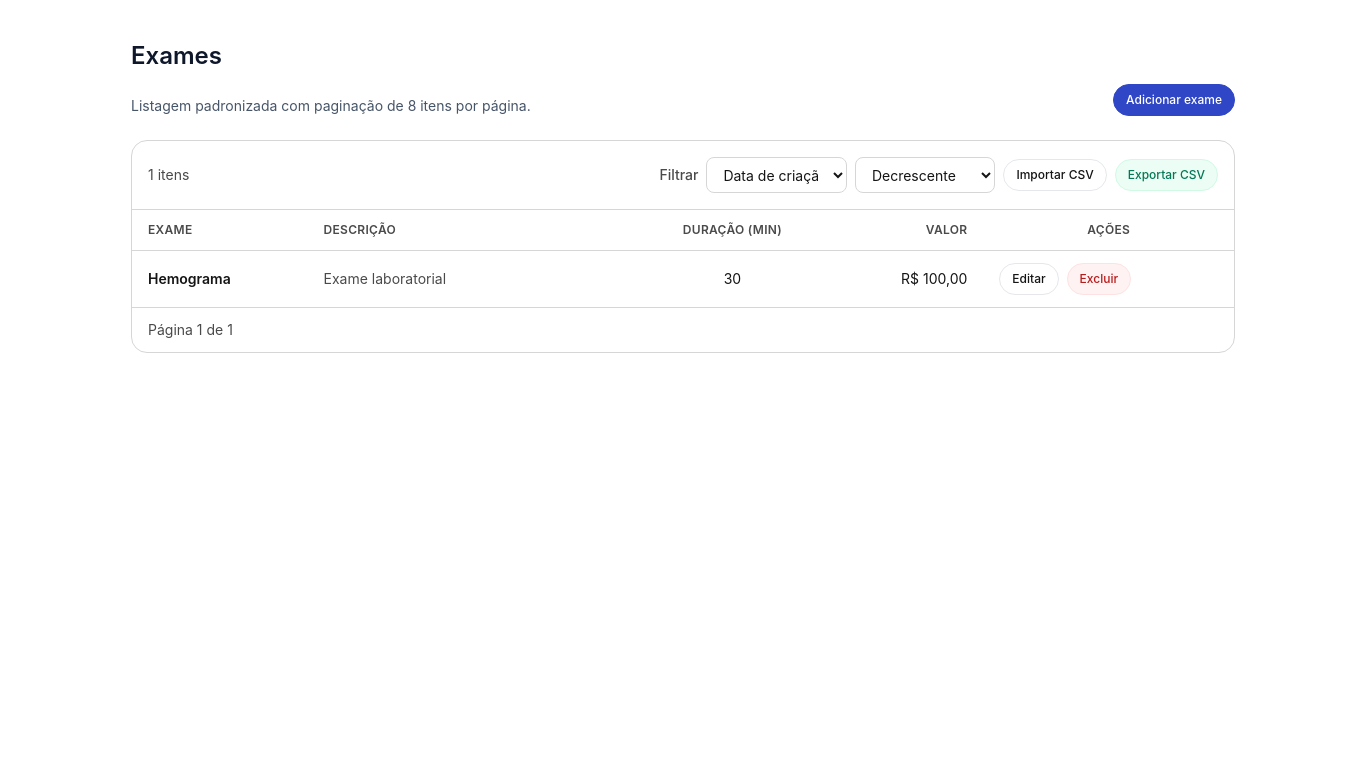
Test: ExamsListSection › should close confirmation dialog when cancel is clicked
Click the button "Excluir" at (1099, 279), box [1067,263,1131,295]
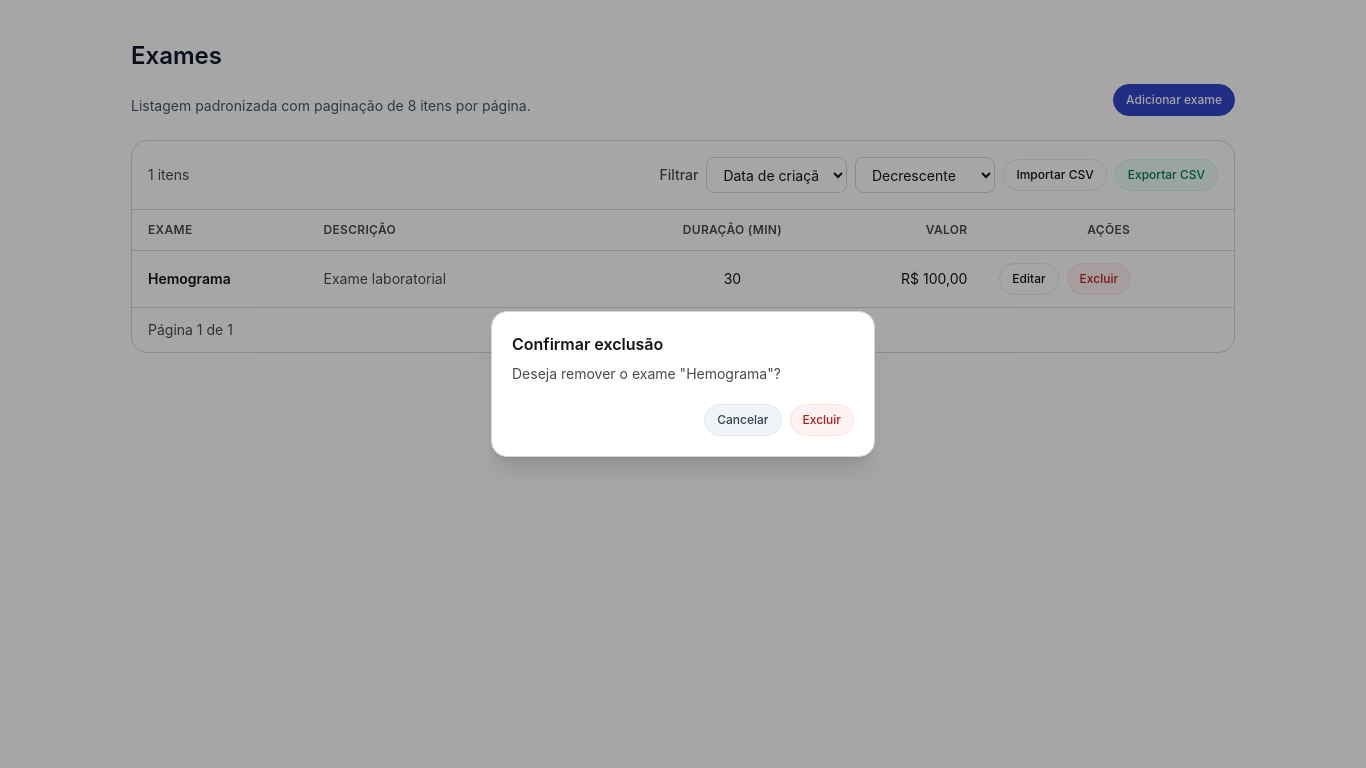
Expected: the dialog is shown, [491,311,875,457]
Click the button "Cancelar" at (743, 420), box [704,404,782,436]
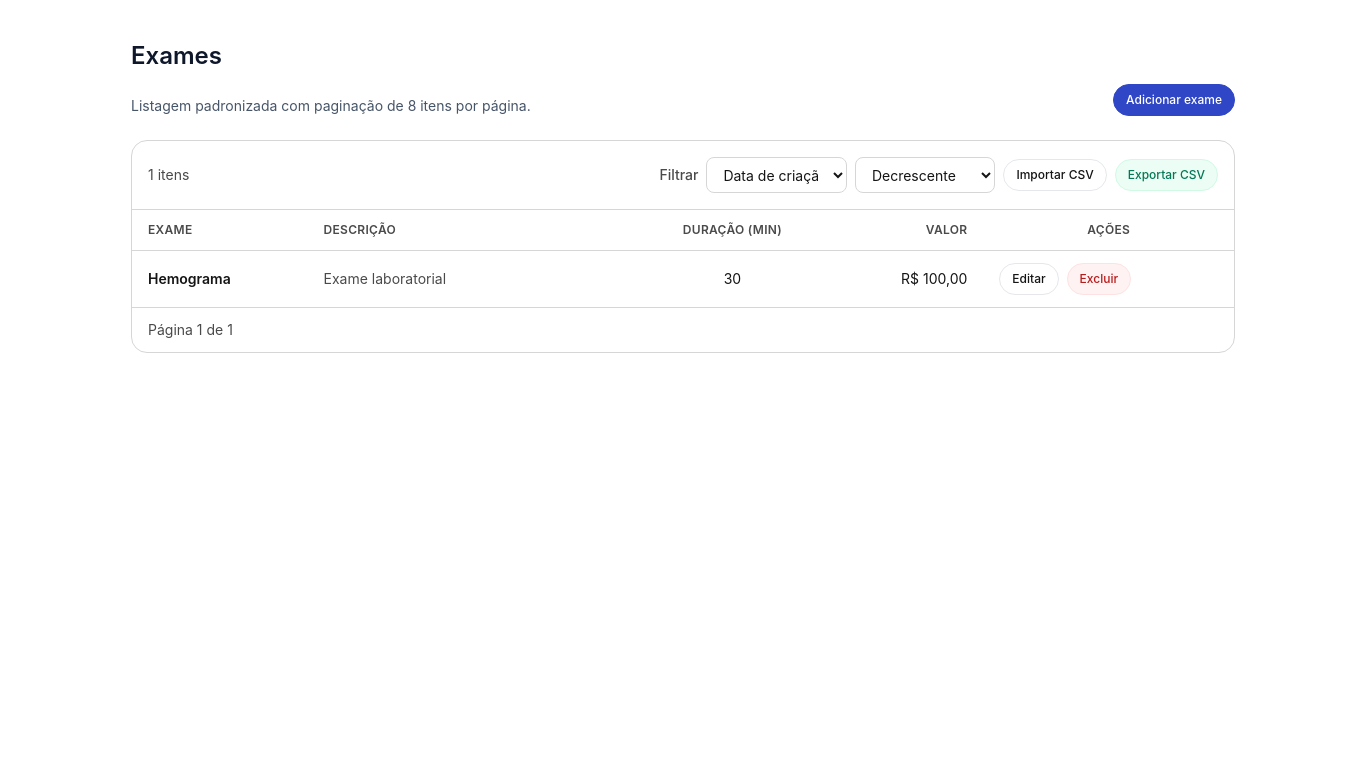
Expected: the dialog is gone
